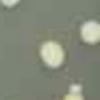white: (37, 38, 68, 73), (79, 18, 100, 44), (65, 82, 84, 95), (0, 0, 22, 11)
yellow: (60, 93, 89, 100)
